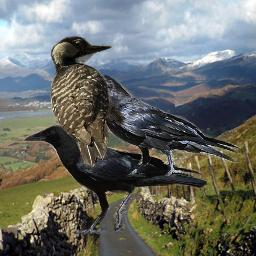Crow: (23, 123, 207, 234), (74, 74, 246, 179)
Woodpecker: (50, 35, 128, 170)
